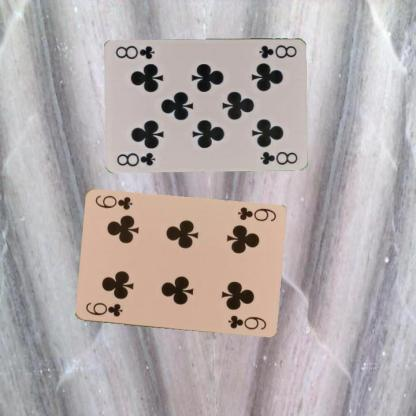6c: (82, 300, 124, 318), (234, 205, 276, 223)
8c: (257, 42, 298, 60), (115, 150, 156, 167)
